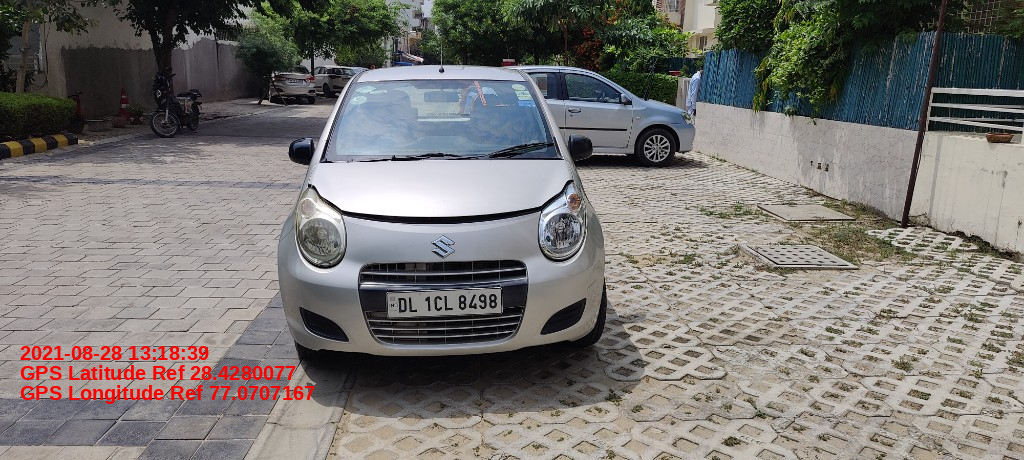Scratched: (587, 276, 598, 292)
